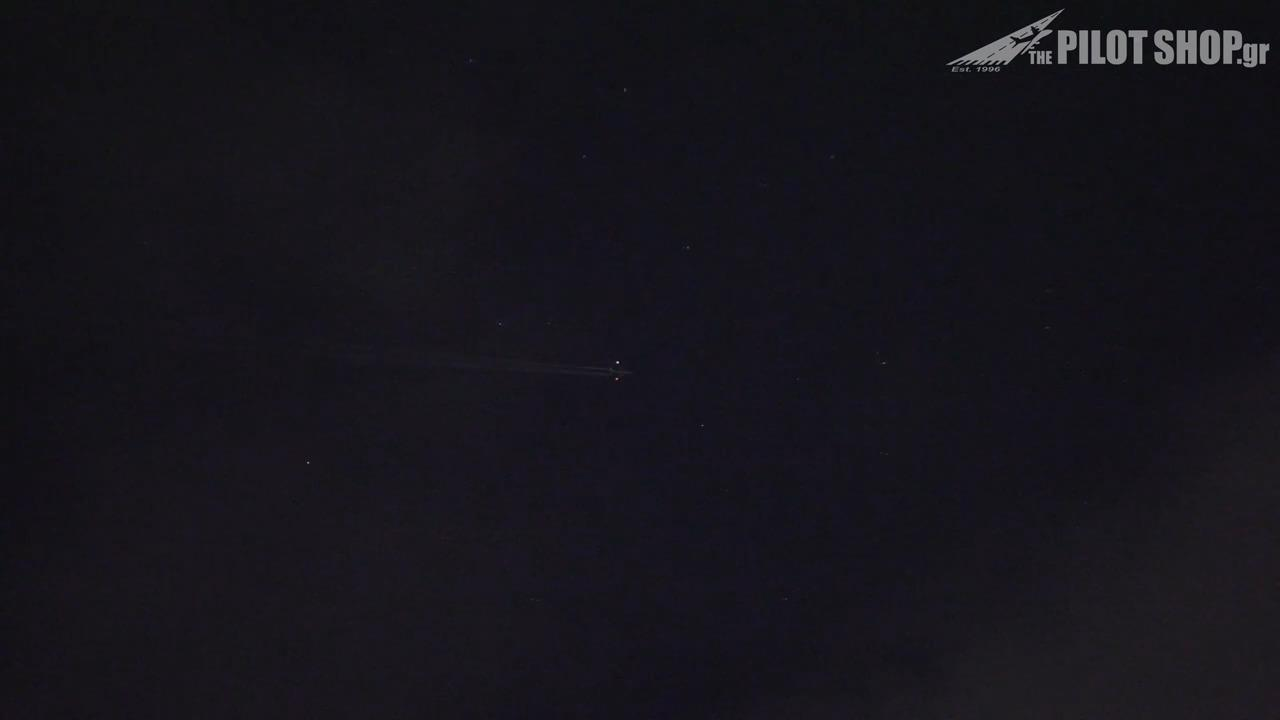Plane: (466, 352, 659, 390)
